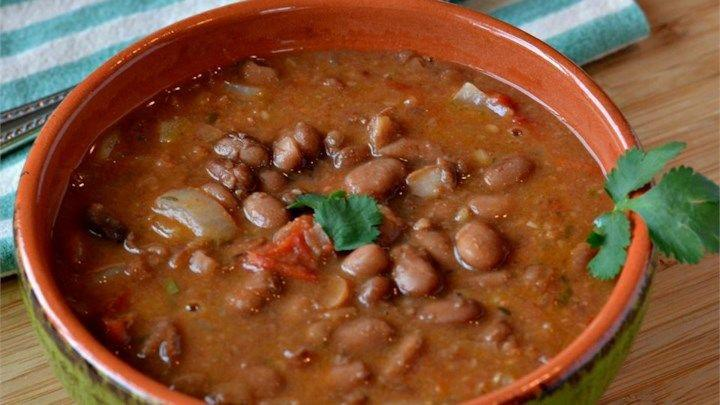RajmaCurry: (54, 40, 630, 398)
